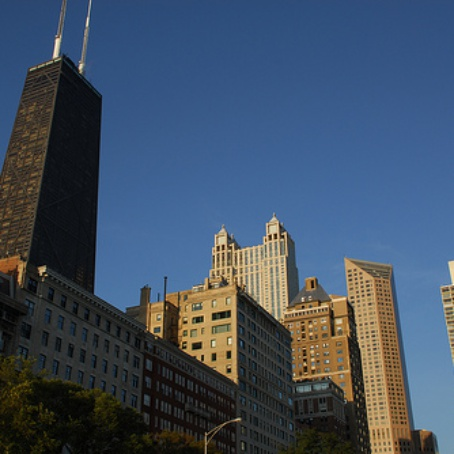building: (8, 269, 233, 451), (1, 49, 106, 293), (183, 293, 302, 454), (349, 247, 417, 454), (289, 281, 357, 454), (203, 210, 297, 315)
sky: (111, 1, 454, 260)
